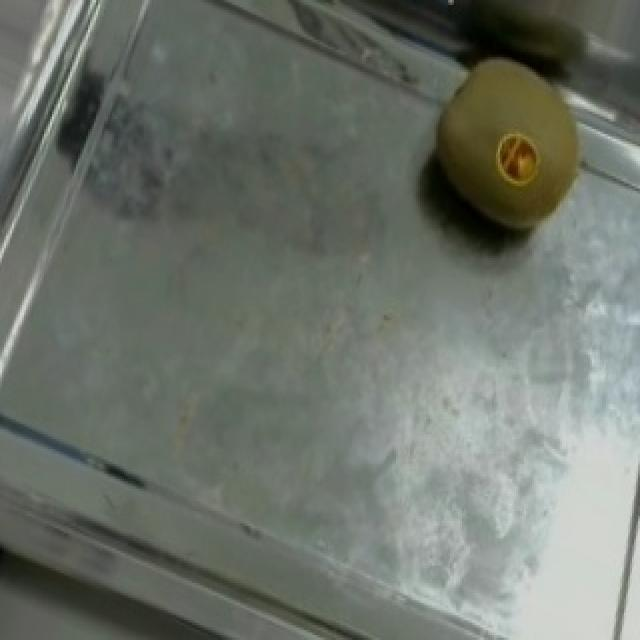Fruit: (388, 27, 624, 273)
